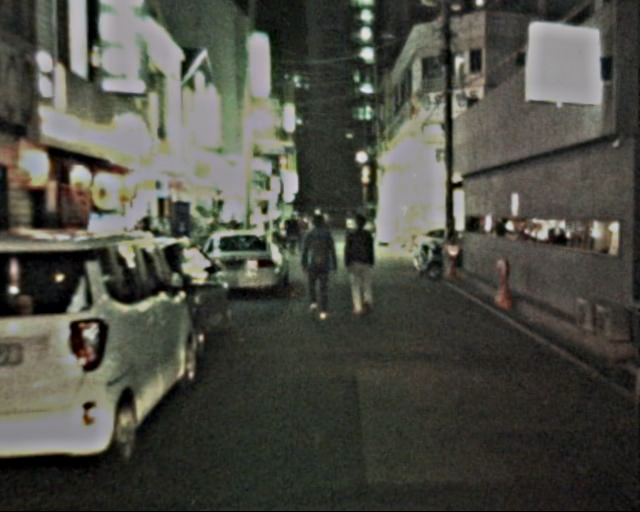person: (297, 216, 342, 323), (341, 216, 385, 317)
